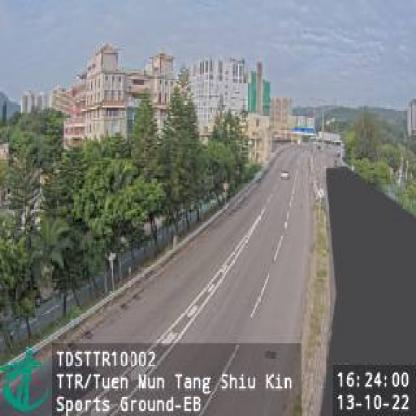Car: (280, 167, 291, 180)
